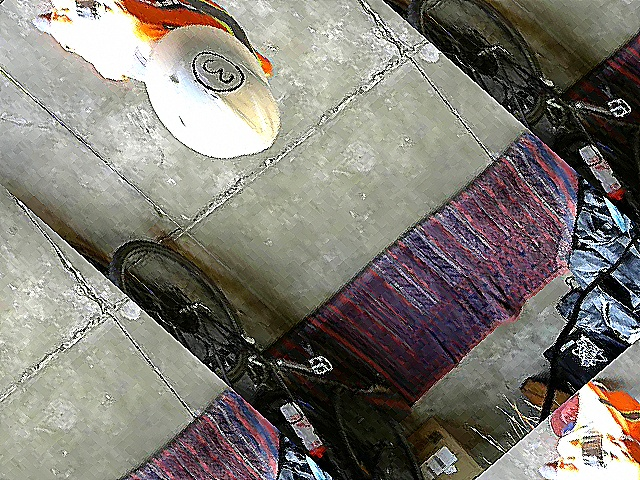three: (181, 42, 251, 103)
